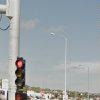Traffic light: (8, 45, 35, 98)
